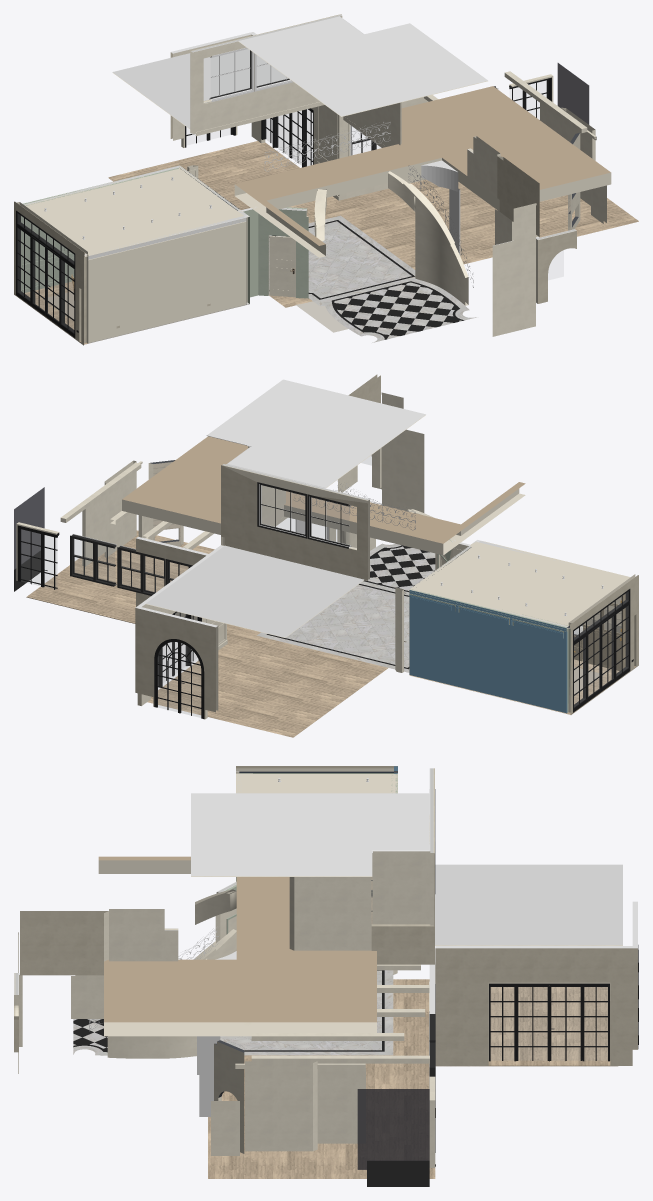
Rendered from dining-room-840ee254749a.glb.
3 renders of one model, top to bottom at view 1: azimuth 30°, elevation 25°; view 2: azimuth 150°, elevation 25°; view 3: azimuth 270°, elevation 25°, orthographic. The views are drawn at different scales.
Visible parts, largest first — view 1: dining-room-look-2575515a05775d9e, dining-room-look-9d91b47435c6fb33, dining-room-look-3b0077416469e01b, dining-room-d999b7e09afcf2f4, dining-room-2575515a05775d9e, dining-room-look-4a969f5cc1ae3dfe, dining-room-look-245f595ae2832e16, dining-room-look-e388ad8855329420, dining-room-look-6ea1225136f14ed6, dining-room-look-d5a4a1b5d3594c04, dining-room-look-8c6a7019fd0063e7, dining-room-701dbbc71a4c8bc6 (+40 smaller); view 2: dining-room-look-3b0077416469e01b, dining-room-b19b106fc304963c, dining-room-look-9d91b47435c6fb33, dining-room-look-2575515a05775d9e, dining-room-look-4a969f5cc1ae3dfe, dining-room-2575515a05775d9e, dining-room-look-245f595ae2832e16, dining-room-look-6ea1225136f14ed6, dining-room-look-969b861f9850351e, dining-room-look-d5a4a1b5d3594c04, dining-room-look-cdd3b97a7e9637be, dining-room-look-e388ad8855329420 (+27 smaller); view 3: dining-room-look-2575515a05775d9e, dining-room-look-3b0077416469e01b, dining-room-look-9d91b47435c6fb33, dining-room-look-4a969f5cc1ae3dfe, dining-room-look-e706aa16b4547c37, dining-room-look-5b6bbac285e58726, dining-room-look-69af8f587252f9fa, dining-room-look-62353aa10fc57f23, dining-room-look-cbd4bf73d9724a66, dining-room-look-32b959c9aa406288, dining-room-2575515a05775d9e, dining-room-look-99336d62df756830 (+22 smaller).
Part boxes in pixels (x1,y1,x2,y2): dining-room-look-2575515a05775d9e: [234, 86, 611, 257]; dining-room-look-9d91b47435c6fb33: [238, 16, 487, 116]; dining-room-look-3b0077416469e01b: [108, 141, 638, 307]; dining-room-d999b7e09afcf2f4: [88, 216, 246, 342]; dining-room-2575515a05775d9e: [15, 166, 248, 256]; dining-room-look-4a969f5cc1ae3dfe: [112, 49, 288, 129]; dining-room-look-245f595ae2832e16: [190, 14, 342, 134]; dining-room-look-e388ad8855329420: [334, 282, 461, 339]; dining-room-look-6ea1225136f14ed6: [269, 221, 411, 298]; dining-room-look-d5a4a1b5d3594c04: [492, 235, 535, 336]; dining-room-look-8c6a7019fd0063e7: [388, 171, 468, 305]; dining-room-701dbbc71a4c8bc6: [16, 210, 75, 337]; dining-room-look-3b0077416469e01b: [26, 530, 387, 737]; dining-room-b19b106fc304963c: [409, 590, 567, 713]; dining-room-look-9d91b47435c6fb33: [206, 379, 425, 488]; dining-room-look-2575515a05775d9e: [122, 436, 525, 555]; dining-room-look-4a969f5cc1ae3dfe: [146, 545, 364, 637]; dining-room-2575515a05775d9e: [410, 541, 637, 628]; dining-room-look-245f595ae2832e16: [221, 464, 369, 580]; dining-room-look-6ea1225136f14ed6: [286, 584, 409, 667]; dining-room-look-969b861f9850351e: [135, 606, 218, 712]; dining-room-look-d5a4a1b5d3594c04: [382, 429, 424, 512]; dining-room-look-cdd3b97a7e9637be: [257, 482, 307, 538]; dining-room-look-e388ad8855329420: [368, 546, 435, 590]; dining-room-look-2575515a05775d9e: [98, 856, 376, 1036]; dining-room-look-3b0077416469e01b: [208, 979, 617, 1178]; dining-room-look-9d91b47435c6fb33: [191, 793, 429, 876]; dining-room-look-4a969f5cc1ae3dfe: [435, 864, 622, 945]; dining-room-look-e706aa16b4547c37: [435, 946, 632, 1065]; dining-room-look-5b6bbac285e58726: [245, 1061, 317, 1151]; dining-room-look-69af8f587252f9fa: [289, 877, 371, 950]; dining-room-look-62353aa10fc57f23: [20, 911, 108, 975]; dining-room-look-cbd4bf73d9724a66: [357, 1089, 429, 1169]; dining-room-look-32b959c9aa406288: [372, 851, 429, 924]; dining-room-2575515a05775d9e: [236, 766, 397, 793]; dining-room-look-99336d62df756830: [317, 1068, 365, 1143].
Bounding box in the file's own units: 20 × 6.36 × 16.79.
Materials: 52 (16 with a texture image).
